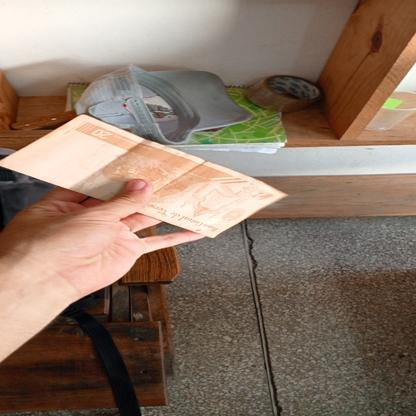twenty-back-vef: (0, 112, 288, 239)
